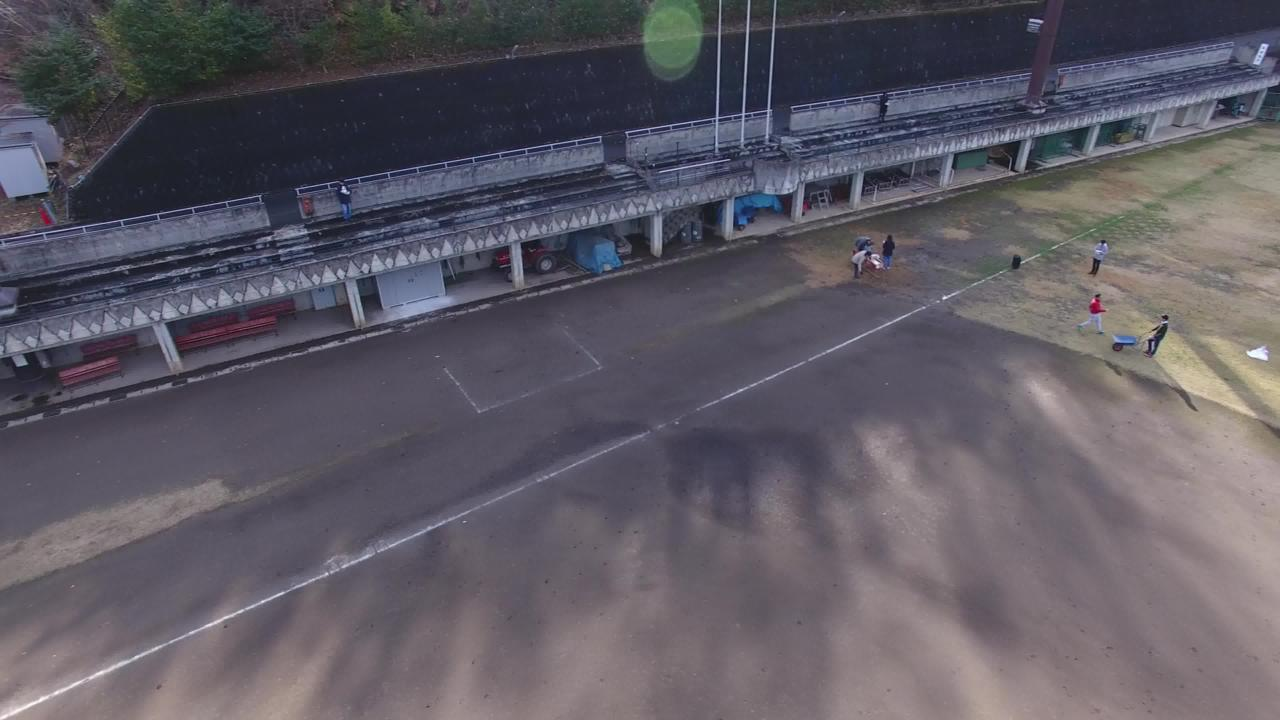person: (328, 174, 361, 222), (880, 234, 913, 282), (838, 246, 871, 294), (866, 83, 899, 131), (1079, 235, 1112, 283), (1142, 311, 1175, 359), (1081, 293, 1114, 341), (849, 226, 873, 263)
